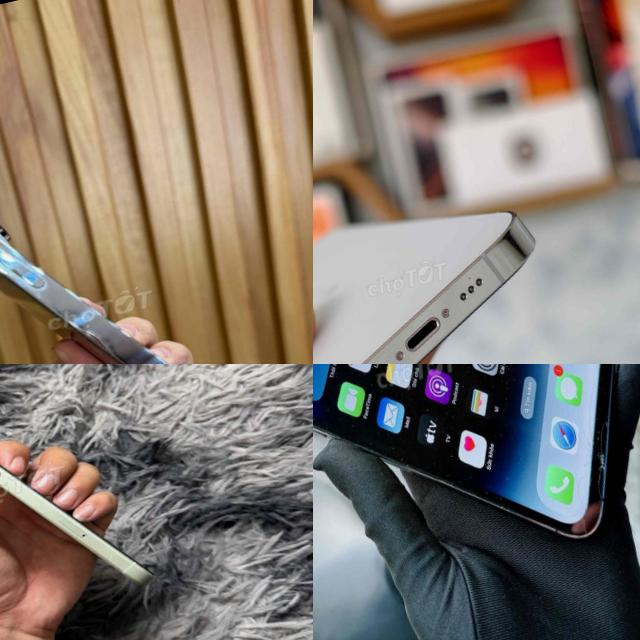gen_14: (0, 82, 313, 364), (313, 364, 640, 614), (313, 180, 576, 364)
gen_15: (0, 364, 169, 640)
physical_damage: (578, 443, 627, 493), (554, 374, 608, 419), (562, 492, 610, 542), (562, 408, 612, 454), (560, 453, 586, 490)
